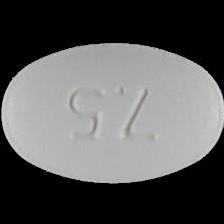0615-5548: (0, 0, 224, 224)
